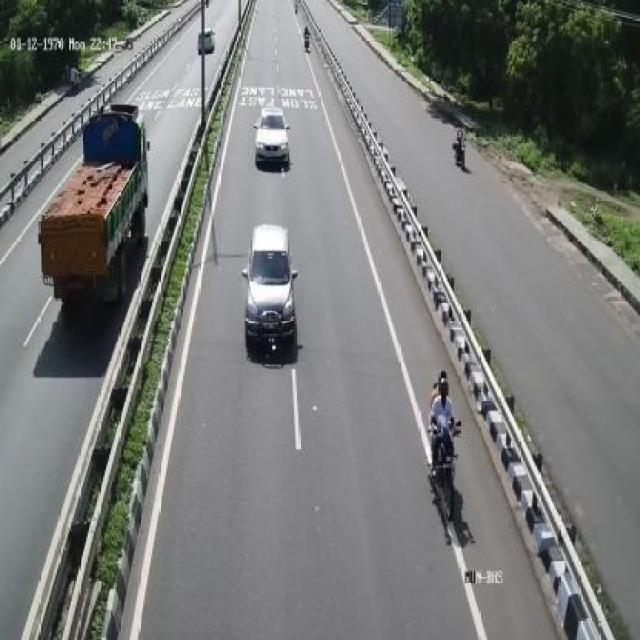car: (243, 217, 300, 358), (255, 98, 292, 176)
